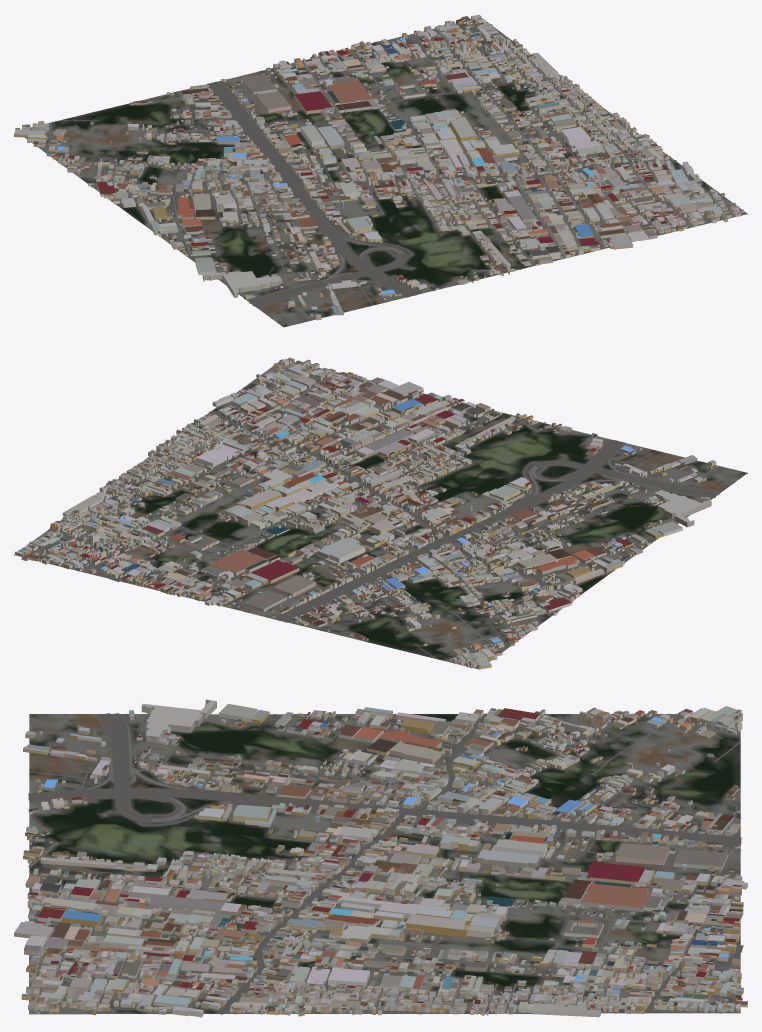
The picture shows the model from 3 angles, top to bottom: view 1: azimuth 30°, elevation 25°; view 2: azimuth 150°, elevation 25°; view 3: azimuth 270°, elevation 25°; orthographic projection. The views are drawn at different scales.
Visible parts, largest first — view 1: buildings, ground, roads; view 2: buildings, ground, roads; view 3: buildings, ground, roads.
Boxes of the visible parts, bbox=[...] form: buildings: bbox=[14, 14, 743, 320]; ground: bbox=[24, 18, 747, 327]; roads: bbox=[30, 22, 734, 319]; buildings: bbox=[15, 357, 716, 669]; ground: bbox=[14, 359, 747, 668]; roads: bbox=[20, 367, 721, 665]; buildings: bbox=[14, 699, 747, 1017]; ground: bbox=[29, 714, 740, 1014]; roads: bbox=[28, 713, 743, 1014].
Bounding box in the file's own units: 1455 × 31.16 × 1445.
